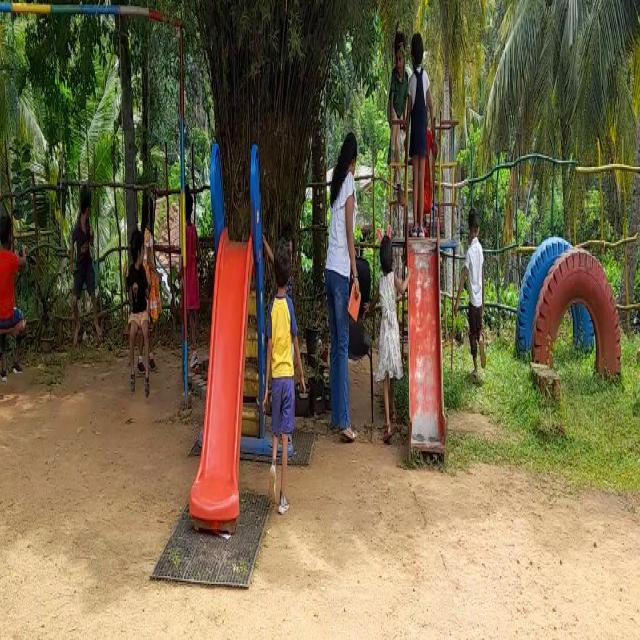adult: (319, 126, 370, 459)
child: (270, 247, 297, 501), (72, 189, 104, 334), (379, 218, 399, 438), (410, 14, 430, 222), (126, 218, 153, 363), (0, 199, 24, 362), (464, 210, 484, 368)
